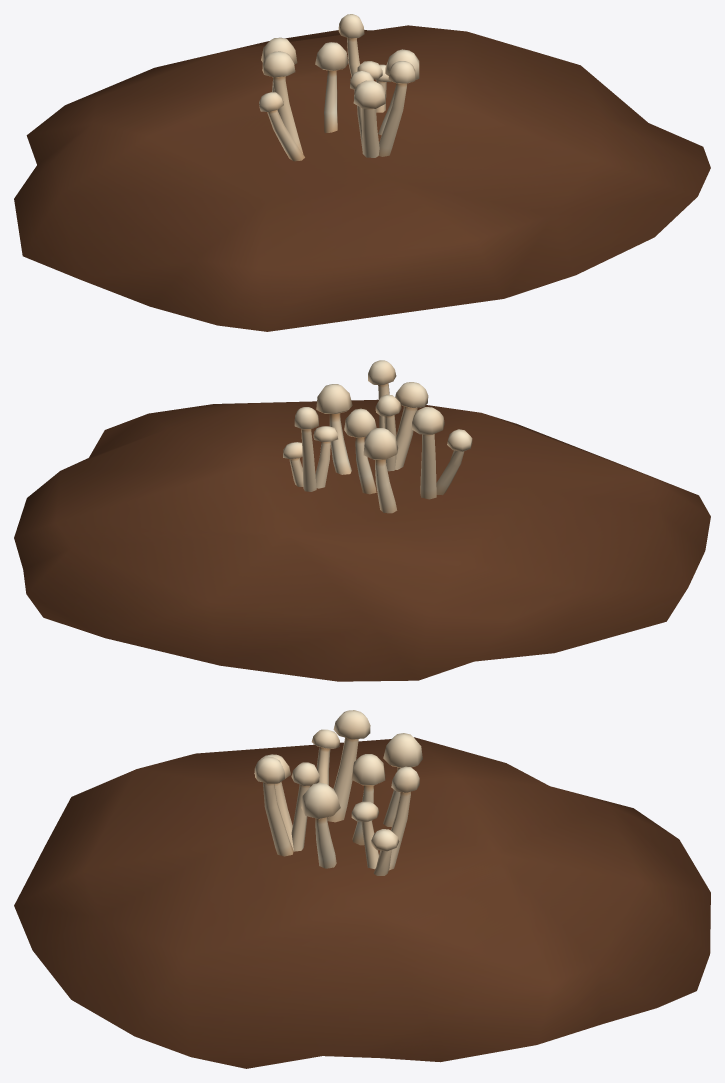
File: SM_PlantSoil_WhiteBeech_Lv1.fbx
3 views of the same model, one above another, from view 1: azimuth 30°, elevation 25°; view 2: azimuth 150°, elevation 25°; view 3: azimuth 270°, elevation 25° (orthographic). The views are drawn at different scales.
Visible parts, largest first — view 1: SM_PlantSoil_WhiteBeech_Lv1; view 2: SM_PlantSoil_WhiteBeech_Lv1; view 3: SM_PlantSoil_WhiteBeech_Lv1.
Part boxes in pixels (left/top/right/bottom): SM_PlantSoil_WhiteBeech_Lv1: left=14, top=14, right=710, bottom=331; SM_PlantSoil_WhiteBeech_Lv1: left=14, top=360, right=710, bottom=681; SM_PlantSoil_WhiteBeech_Lv1: left=14, top=710, right=710, bottom=1068.
Bounding box in the file's own units: 118 × 26.92 × 106.
